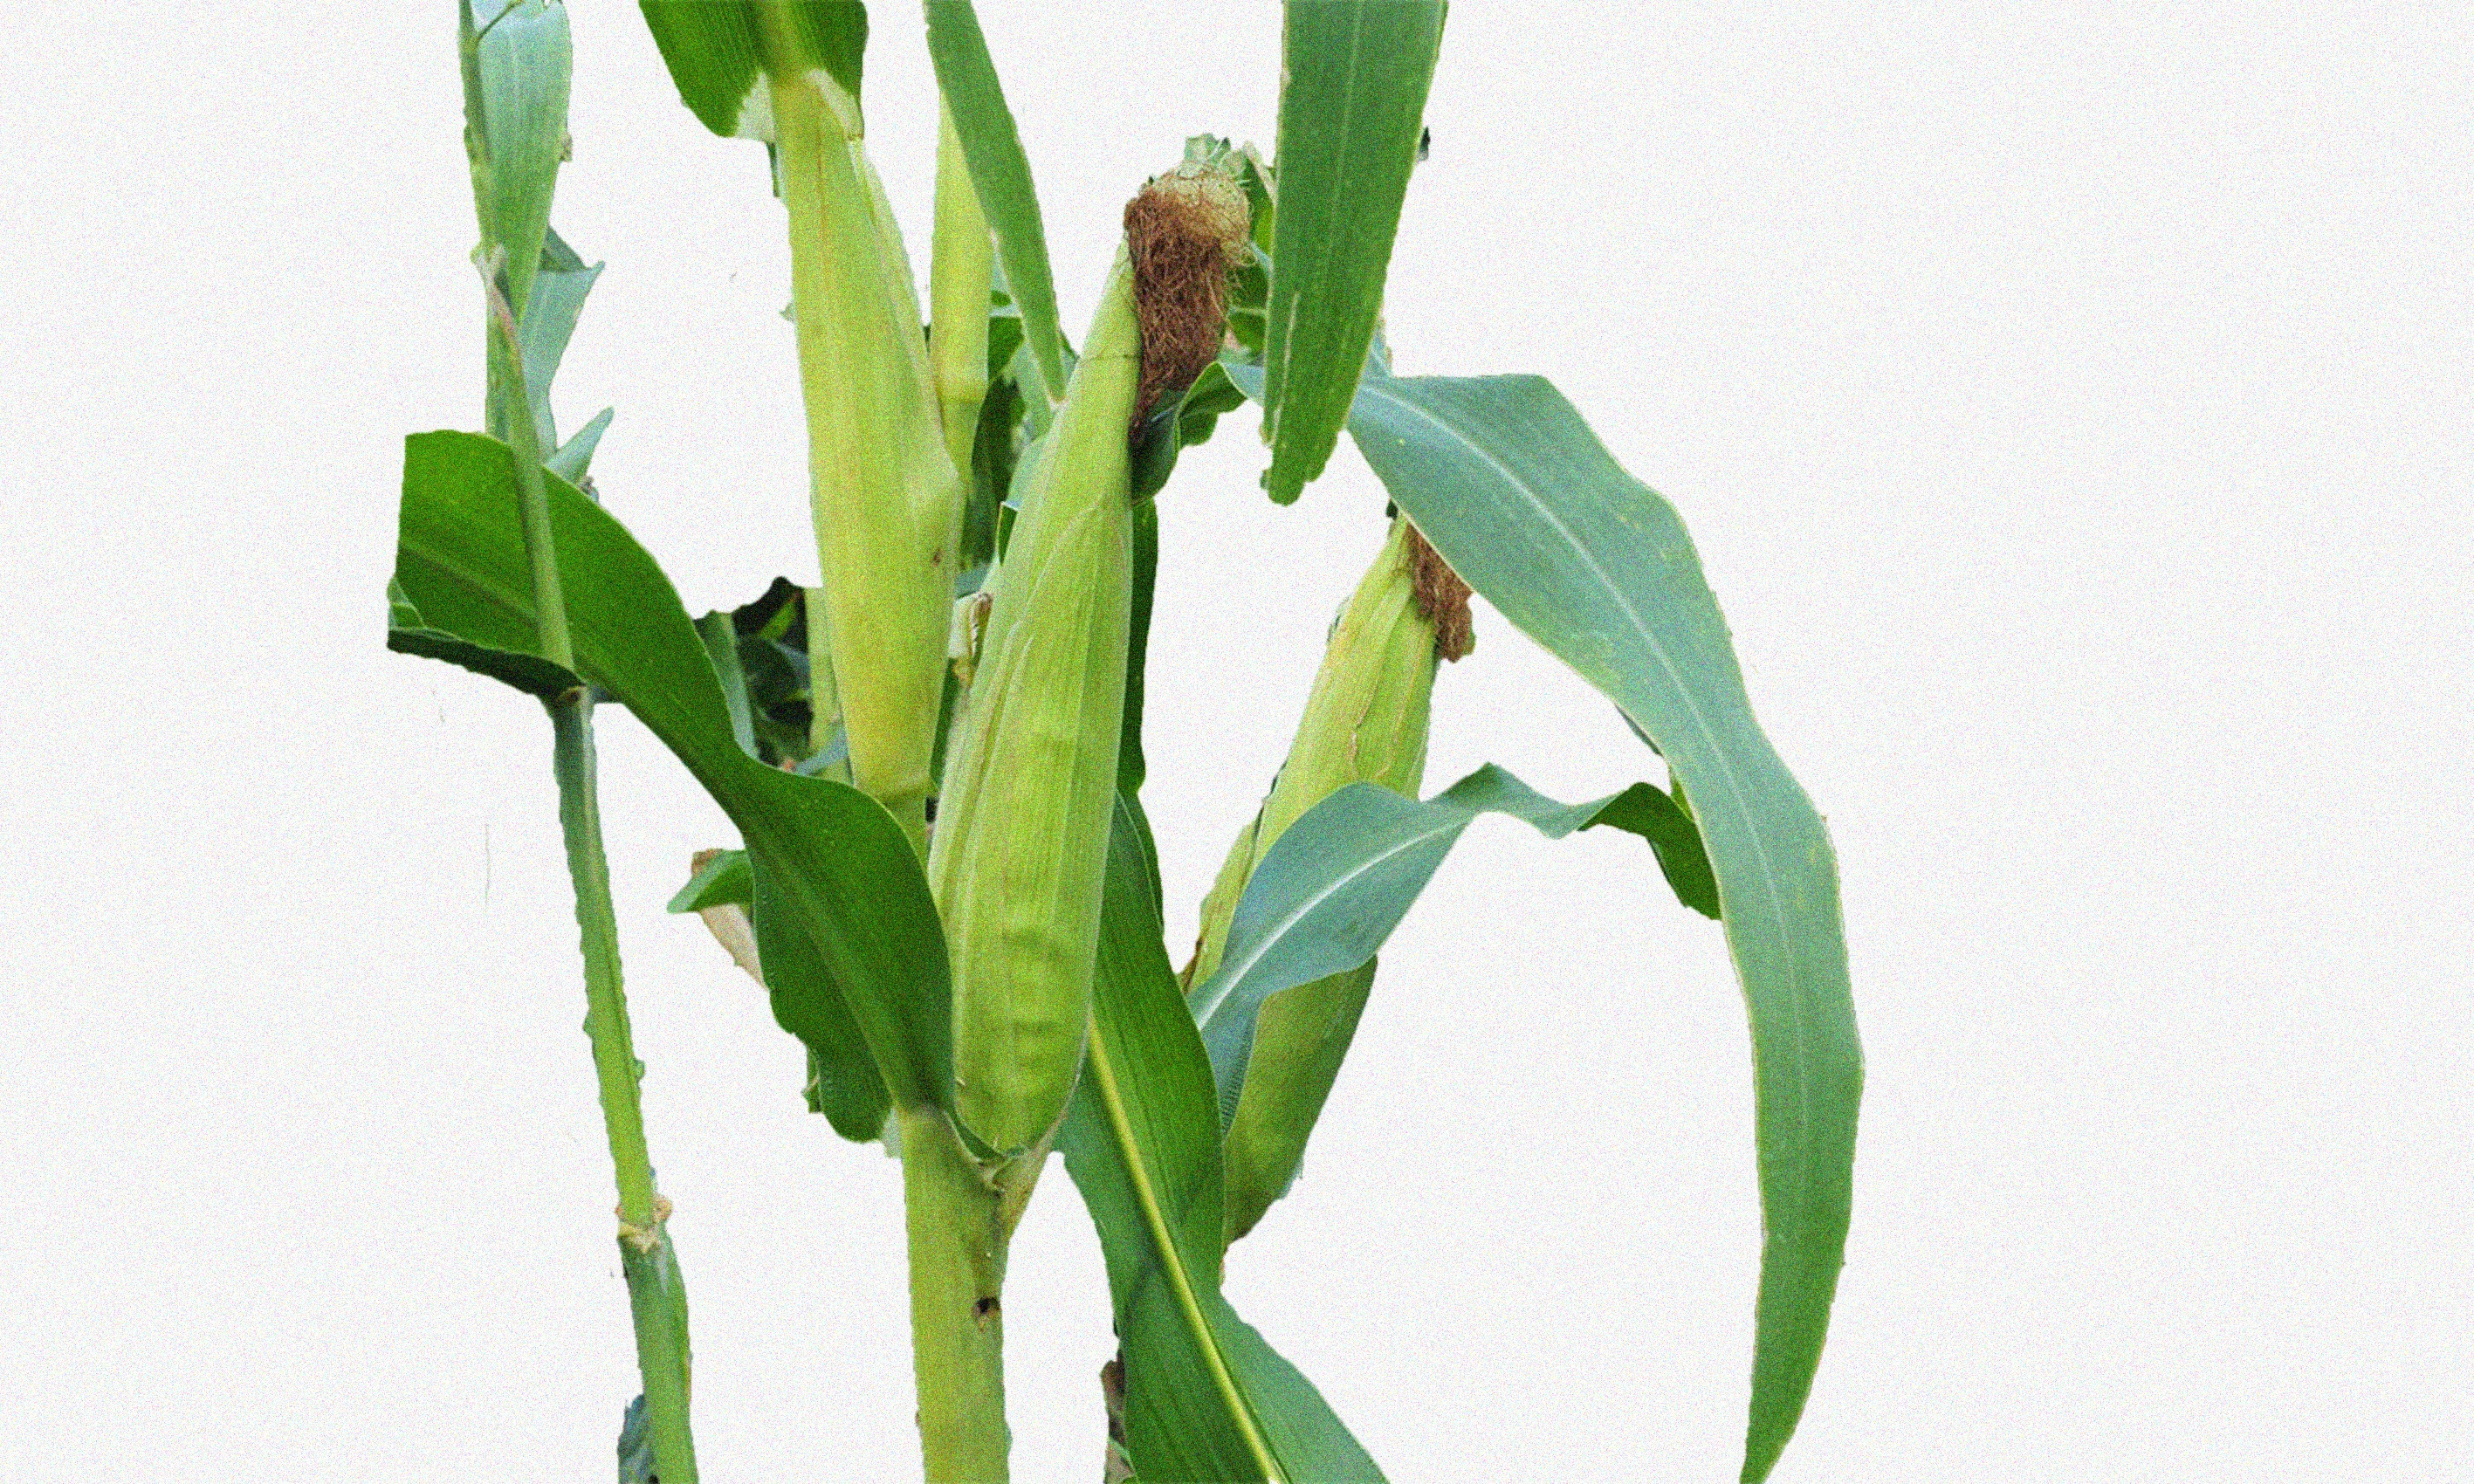corn_plant: (1155, 403, 1533, 1306), (916, 141, 1217, 1272), (729, 46, 952, 1129)
